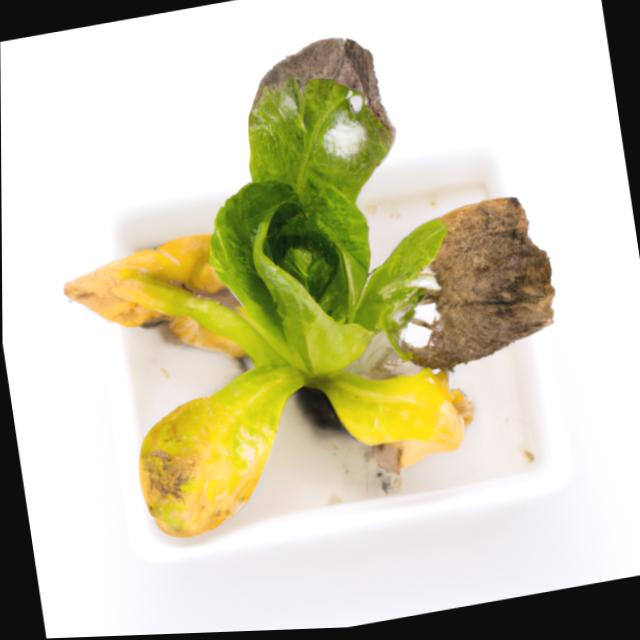-K: (22, 0, 594, 577)
